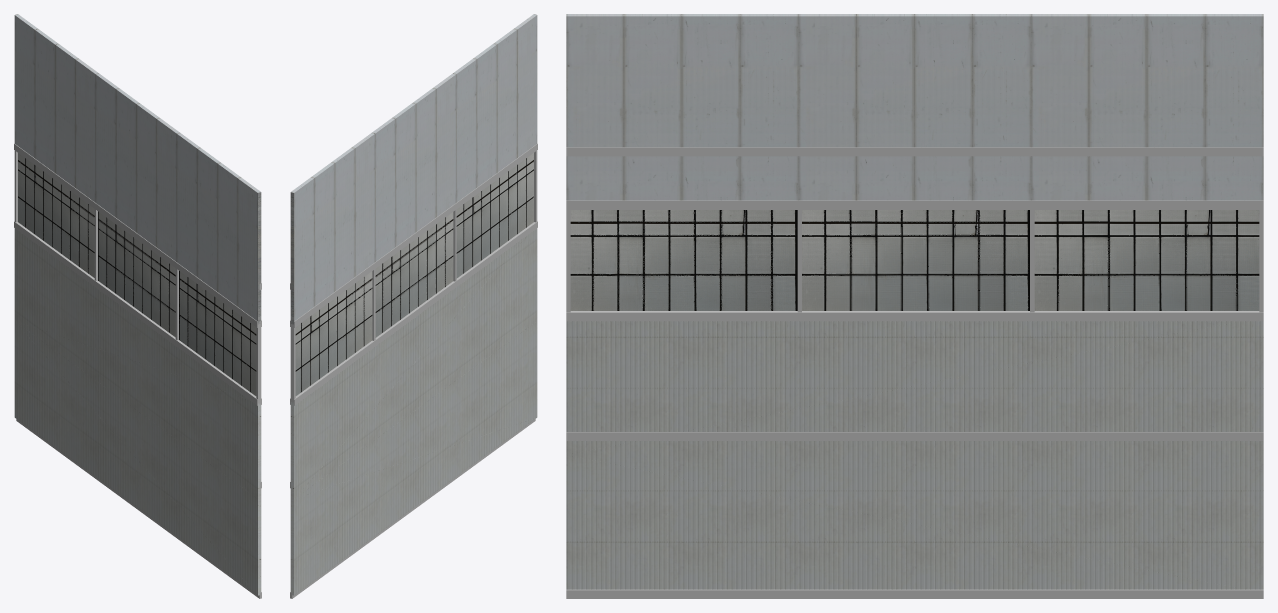
The model's file is Warehouse_Wall_01.FBX.
The picture shows the model from 3 angles, left to right: view 1: azimuth 30°, elevation 25°; view 2: azimuth 150°, elevation 25°; view 3: azimuth 270°, elevation 25°; orthographic projection. The views are drawn at different scales.
Visible parts, largest first — view 1: Warehouse_Wall_1; view 2: Warehouse_Wall_1; view 3: Warehouse_Wall_1.
Boxes of the visible parts, x1=… form: Warehouse_Wall_1: x1=14, y1=14, x2=261, y2=598; Warehouse_Wall_1: x1=290, y1=14, x2=537, y2=598; Warehouse_Wall_1: x1=566, y1=14, x2=1263, y2=598.
Size of the model in its own units: 5.1 by 442 by 480.
